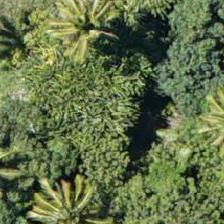coconut_tree: (36, 0, 126, 73), (42, 160, 132, 223)
